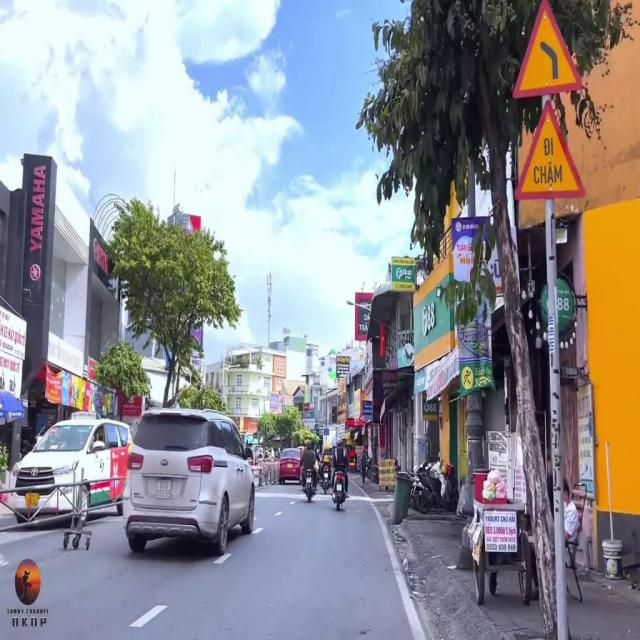cho_ngoat_nguy_hiem_ben_trai: (512, 1, 582, 95)
di_cham: (512, 99, 588, 198)
